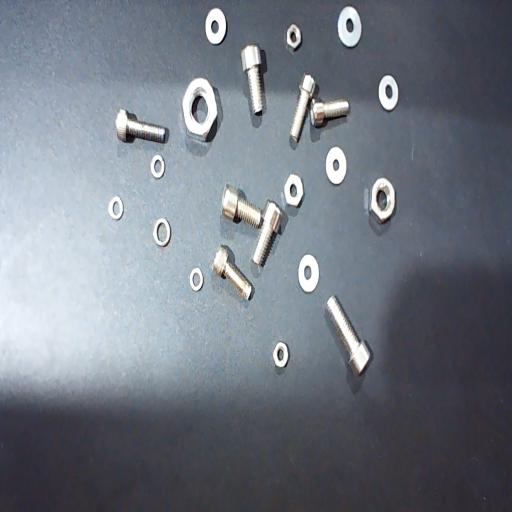nut: (182, 77, 218, 143), (368, 177, 394, 225), (284, 173, 303, 208), (286, 24, 301, 50), (273, 342, 288, 368)
screw: (324, 296, 370, 378), (212, 244, 252, 301), (252, 199, 283, 268), (289, 73, 316, 143), (220, 184, 262, 228), (116, 109, 166, 143), (241, 45, 263, 115), (310, 97, 350, 127)
washer: (337, 6, 361, 47), (326, 146, 347, 184), (205, 8, 226, 45), (298, 255, 319, 292), (378, 75, 399, 111), (153, 218, 171, 247), (150, 154, 165, 179), (108, 195, 123, 220), (190, 268, 204, 291)
